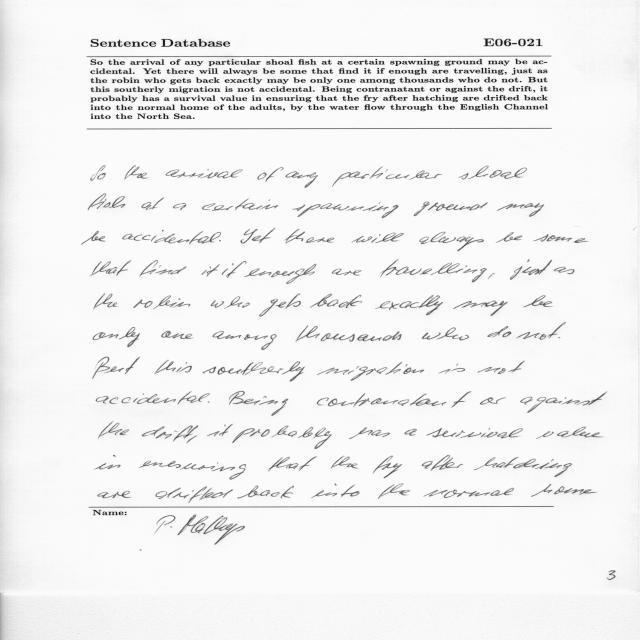word: (317, 391, 471, 408), (380, 260, 487, 283), (332, 166, 442, 187), (232, 426, 332, 449), (202, 362, 305, 382), (317, 362, 424, 381), (139, 461, 246, 480), (474, 457, 572, 477), (520, 391, 608, 413), (296, 325, 402, 342), (292, 202, 399, 218), (96, 391, 210, 405), (122, 230, 221, 245), (229, 391, 288, 416), (244, 264, 317, 284), (375, 295, 443, 315), (155, 487, 233, 504), (419, 232, 484, 251), (212, 331, 277, 350), (414, 202, 488, 216), (93, 357, 140, 379), (426, 428, 523, 438), (458, 166, 527, 180), (259, 294, 301, 317), (93, 327, 140, 347), (202, 199, 278, 211), (423, 488, 514, 498), (142, 426, 198, 442), (531, 484, 597, 497), (516, 323, 566, 340), (510, 260, 552, 280), (133, 296, 191, 310), (454, 301, 508, 316), (536, 427, 603, 439), (166, 169, 243, 179), (285, 229, 335, 244), (237, 486, 294, 499), (140, 260, 186, 276), (268, 457, 317, 472), (310, 294, 362, 308), (311, 484, 360, 498), (373, 456, 402, 479), (497, 203, 544, 217), (422, 455, 463, 471), (92, 260, 131, 276), (422, 328, 469, 341), (478, 361, 525, 374), (89, 194, 126, 210), (241, 228, 276, 244), (286, 171, 318, 188), (154, 360, 192, 374), (352, 233, 404, 243), (99, 421, 129, 438), (211, 296, 250, 309), (348, 427, 390, 439), (533, 234, 588, 243), (378, 484, 410, 499), (222, 261, 247, 278), (258, 167, 284, 182), (96, 455, 121, 470), (331, 456, 358, 469), (124, 166, 149, 180), (524, 296, 553, 308), (94, 294, 117, 309), (82, 231, 106, 245), (207, 424, 233, 436), (142, 197, 165, 210), (496, 232, 523, 243), (487, 326, 511, 337), (439, 364, 465, 374), (161, 331, 193, 339), (201, 264, 220, 277), (91, 165, 106, 181), (98, 491, 131, 498), (480, 397, 506, 405), (332, 269, 361, 276), (554, 267, 575, 274), (173, 203, 186, 210), (404, 429, 417, 436), (187, 436, 198, 443), (488, 273, 495, 279), (208, 401, 210, 403), (219, 240, 221, 241), (558, 337, 560, 338)
